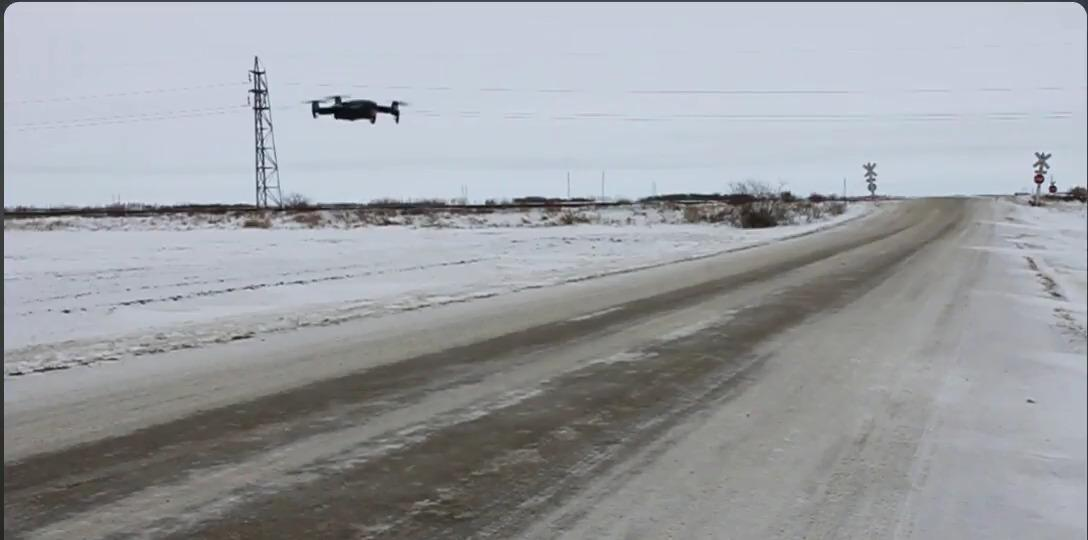dr: (302, 91, 412, 131)
